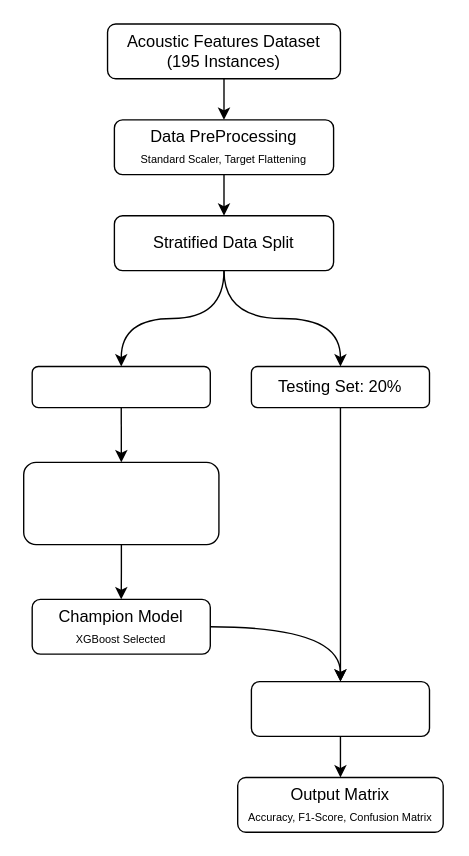
This 469x856 diagram has some shape labels left out. The shapes that lost their labels are listed below. From the top down, each one's box as (x1, y1, x2, y2) in pixels, then its label:
(31, 365, 210, 408): Training Set: 80%
(22, 461, 219, 545): Model Selection 5-Fold Stratified Cross-Validation 7 Lightweight Classifiers
(250, 680, 429, 736): Final Evaluation Test XGBoost on 20% Test Data
